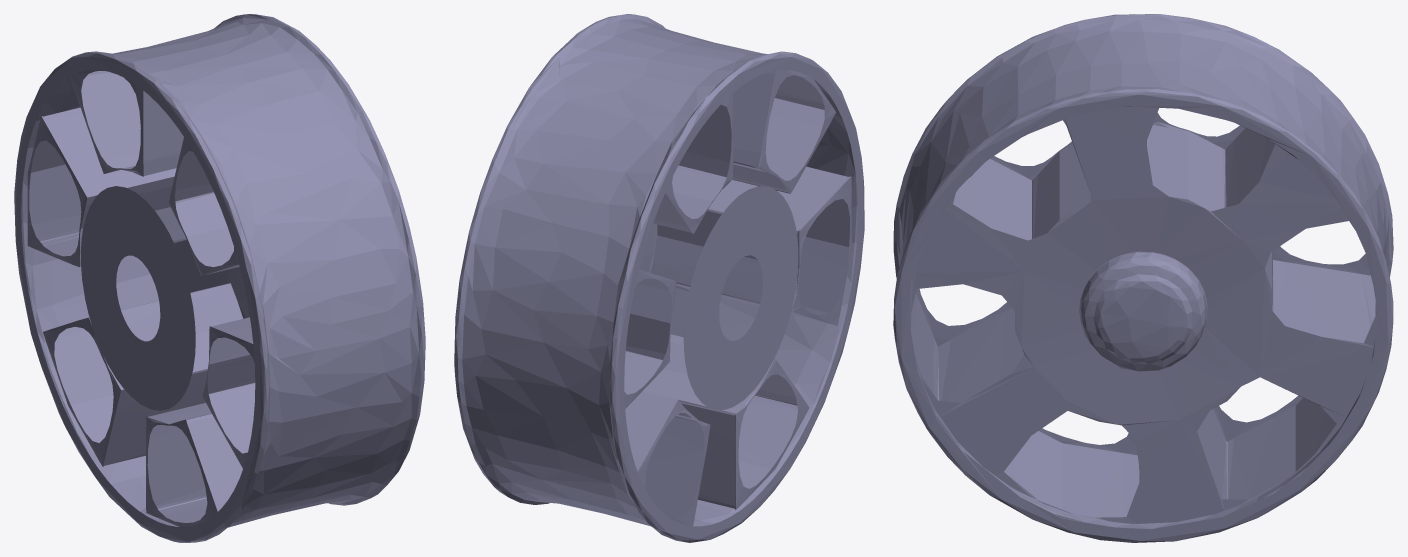
The model's file is idler_L_LowPoly.obj.
The picture shows the model from 3 angles, left to right: view 1: azimuth 30°, elevation 25°; view 2: azimuth 150°, elevation 25°; view 3: azimuth 270°, elevation 25°; orthographic projection.
Parts seen in each view (by area): view 1: idler_L_LowPoly\Facets; view 2: idler_L_LowPoly\Facets; view 3: idler_L_LowPoly\Facets.
Boxes of the visible parts, x1,y1,x2,y2 form: idler_L_LowPoly\Facets: (14,14,425,542); idler_L_LowPoly\Facets: (454,14,864,542); idler_L_LowPoly\Facets: (893,14,1393,542).
Size of the model in its own units: 0.2406 by 0.6061 by 0.6065.
